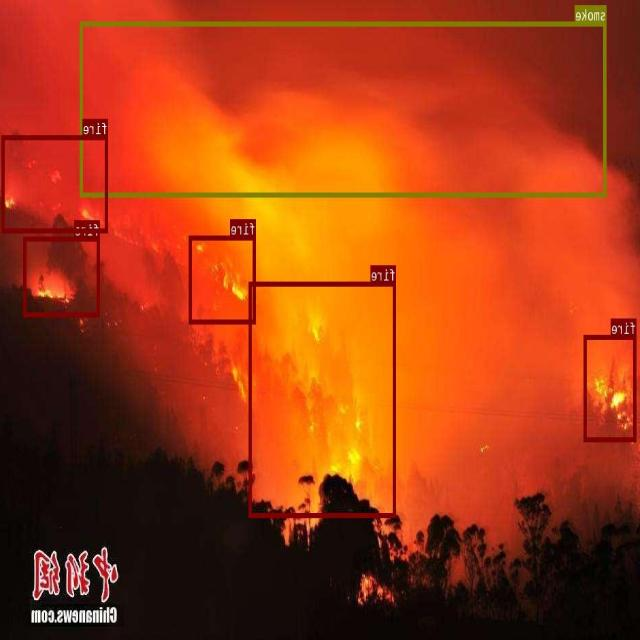fire: (250, 281, 397, 517), (2, 134, 109, 232), (24, 236, 100, 316), (190, 235, 256, 322), (584, 335, 637, 441)
smoke: (80, 21, 607, 196)
